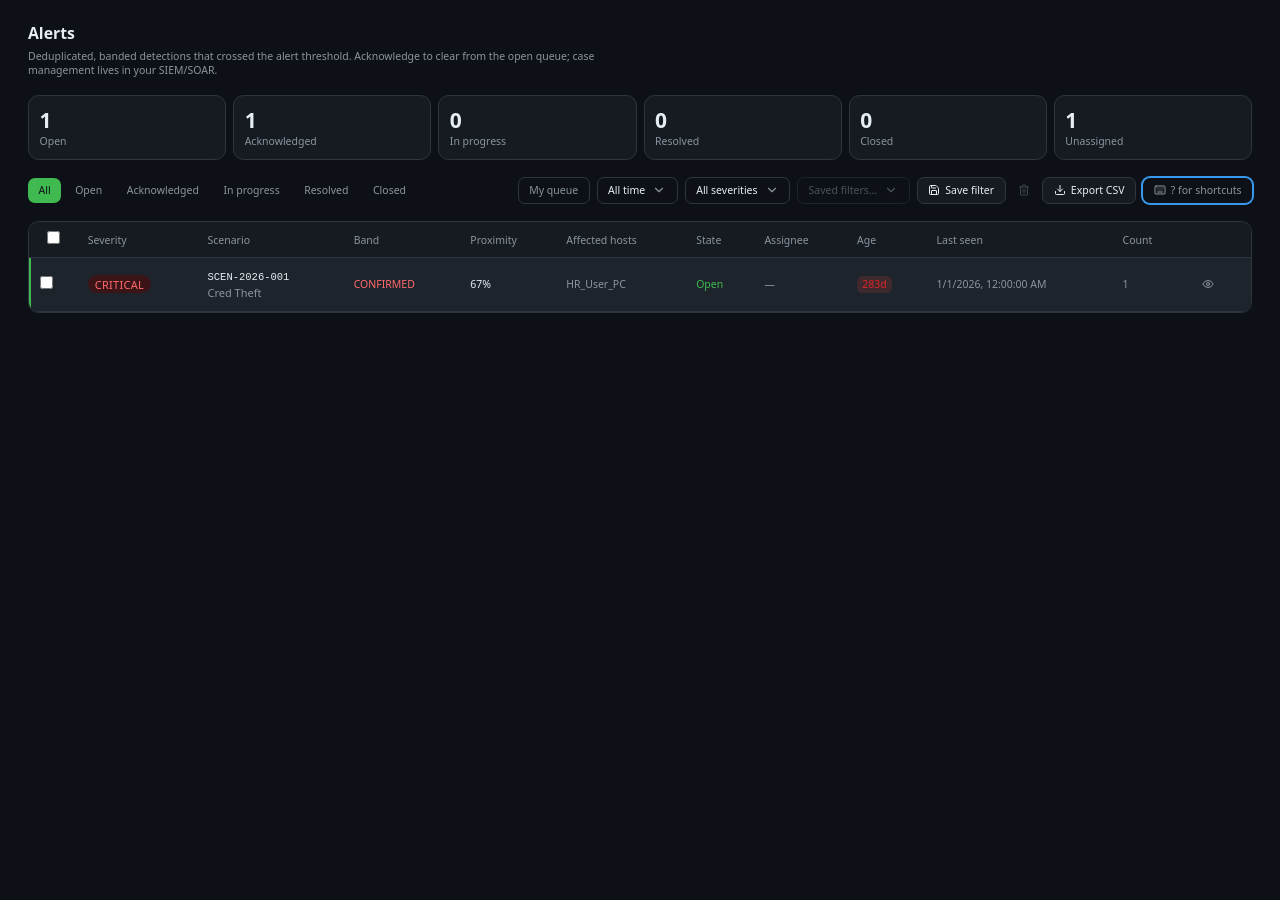
Test case: Alerts page › renders the F3 "why it stalled" line in the drawer when stall is present
Expected: the text "SCEN-2026-001" is shown, [208,271,289,283]
Click the button named "view alert scen-2026-001".
click(1208, 284)  # box [1195,274,1221,293]
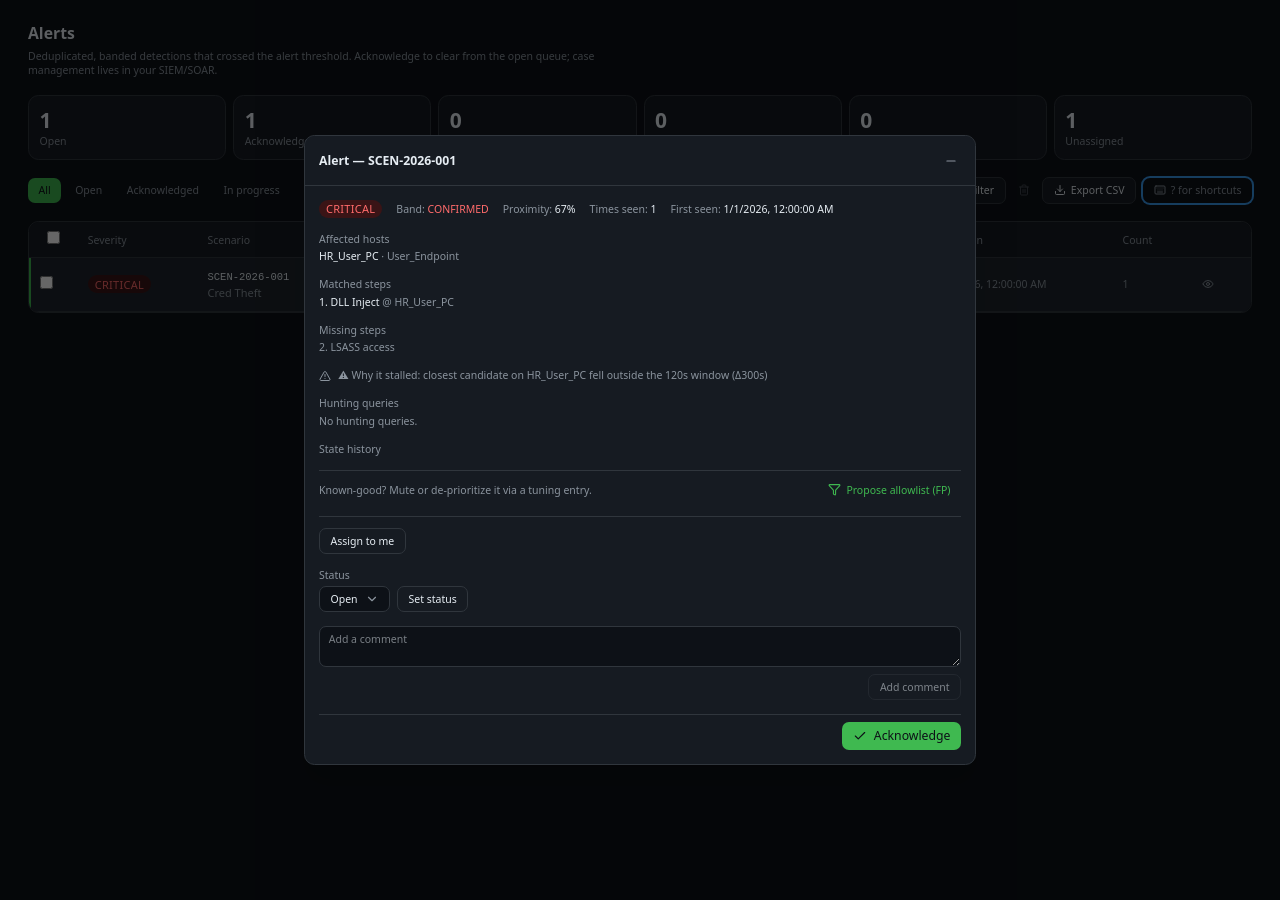
Result: the text "closest candidate on HR_User_PC" is shown at [338,368,767,382]
